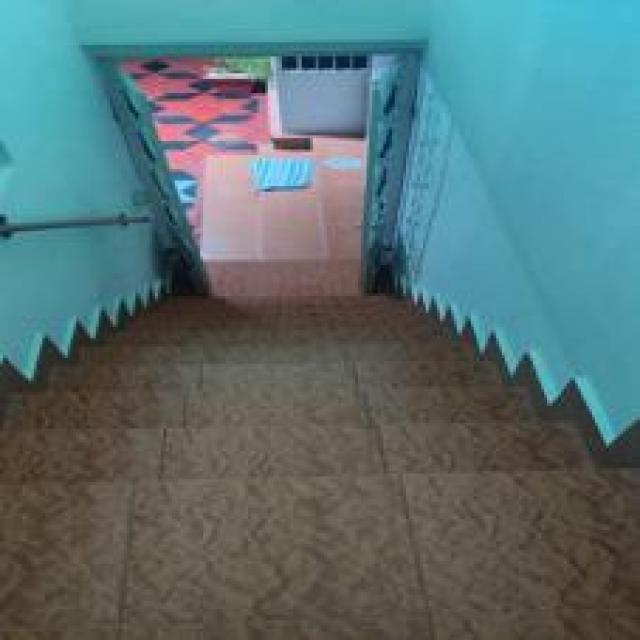stair: (31, 338, 488, 550)
